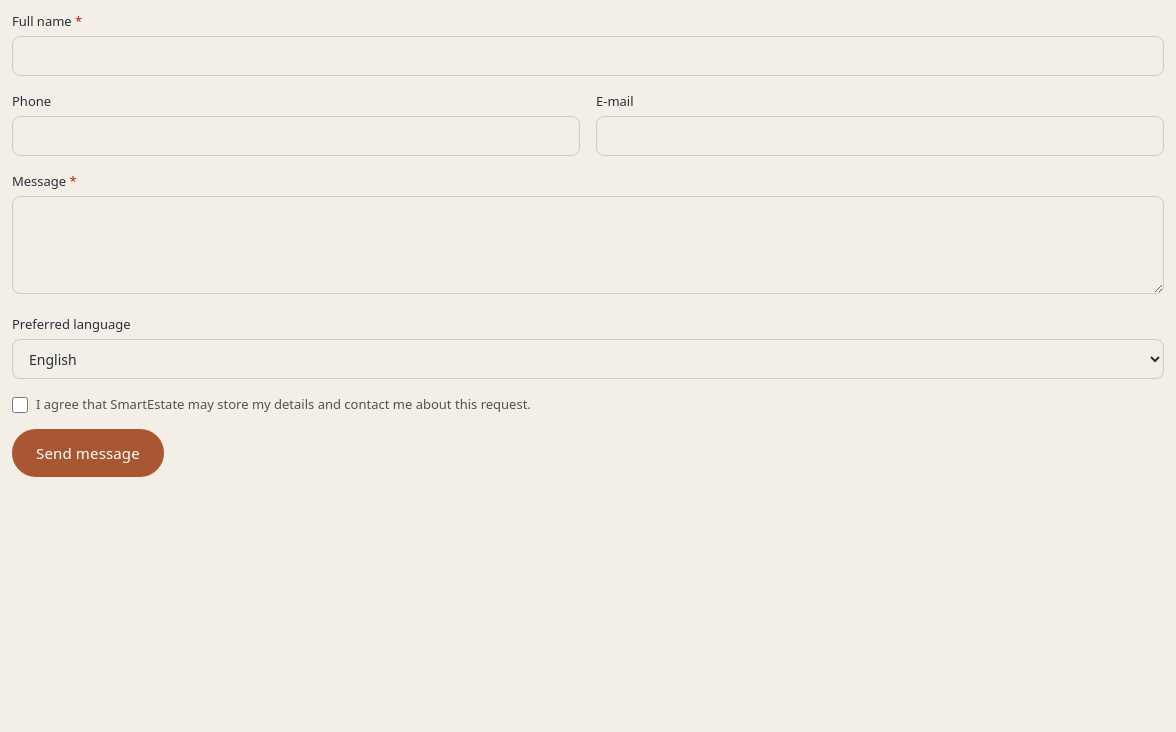
Scenario: inquiry form › shows the server's field and rate-limit errors
Type "Rana" into the field labelled "Full name *" at [588, 56], box [12,36,1164,76]
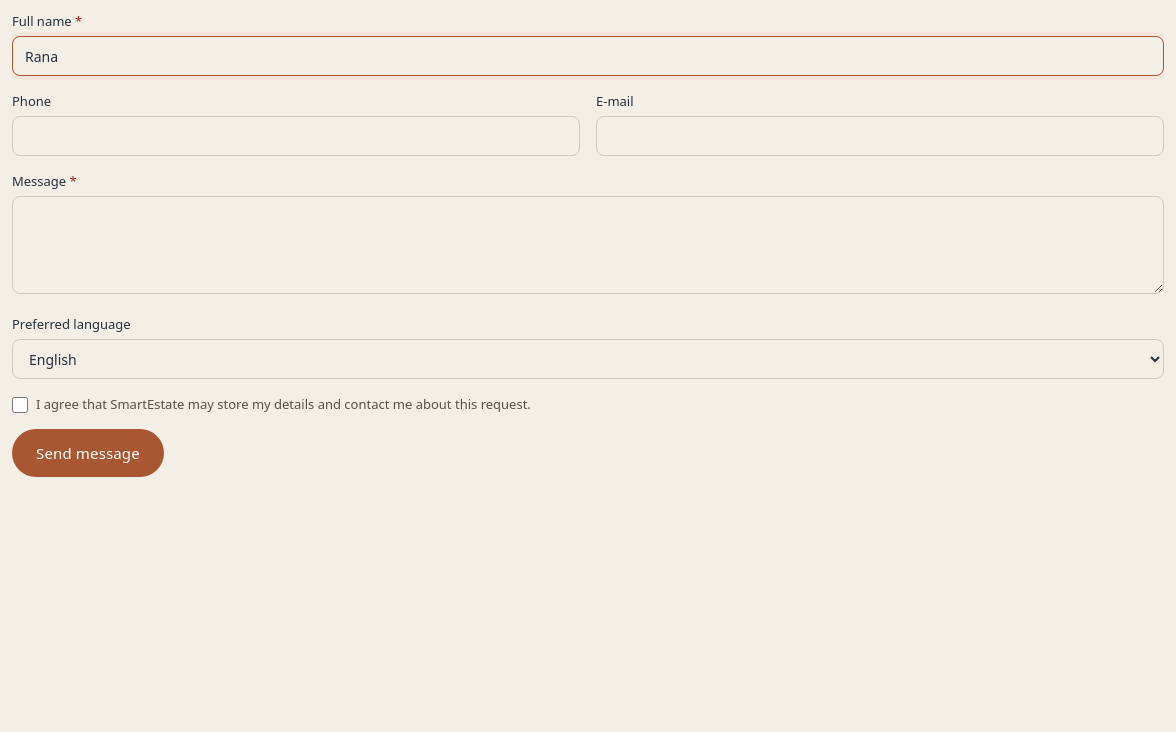
Type "+966 50 123 4567" into the field labelled "Phone" at [296, 136], box [12,116,580,156]
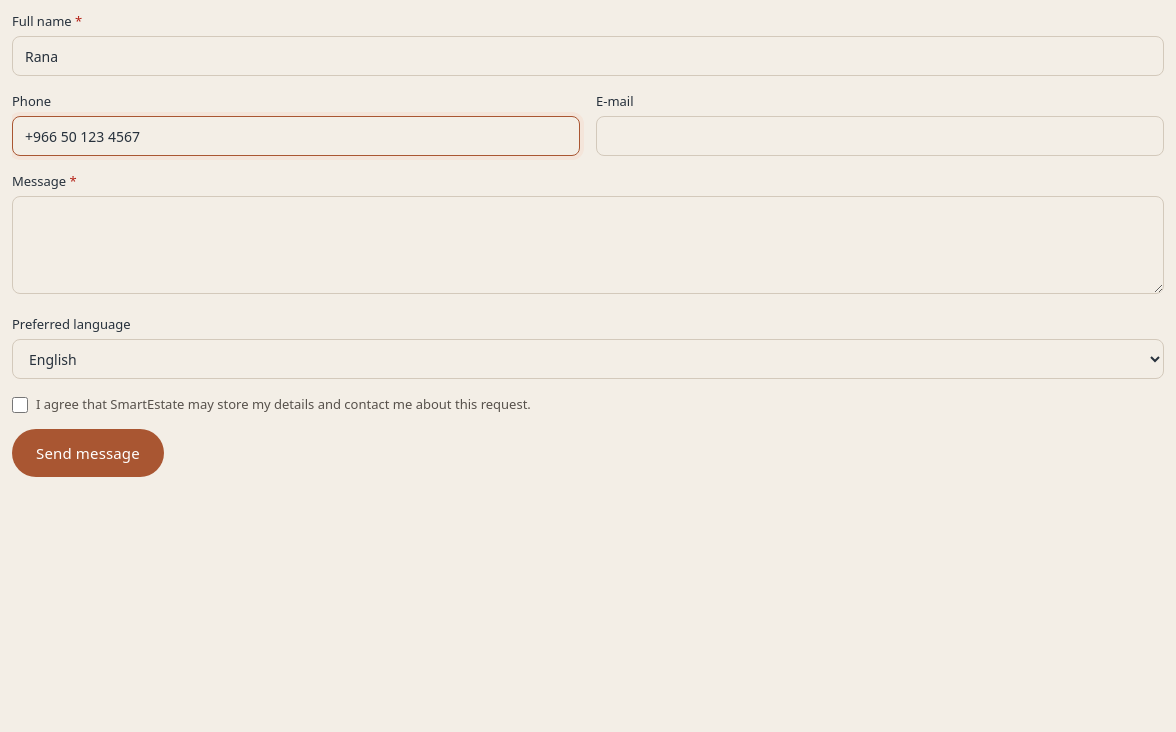
Type "Hi" into the text box labelled "Message *" at [588, 245], box [12,196,1164,294]
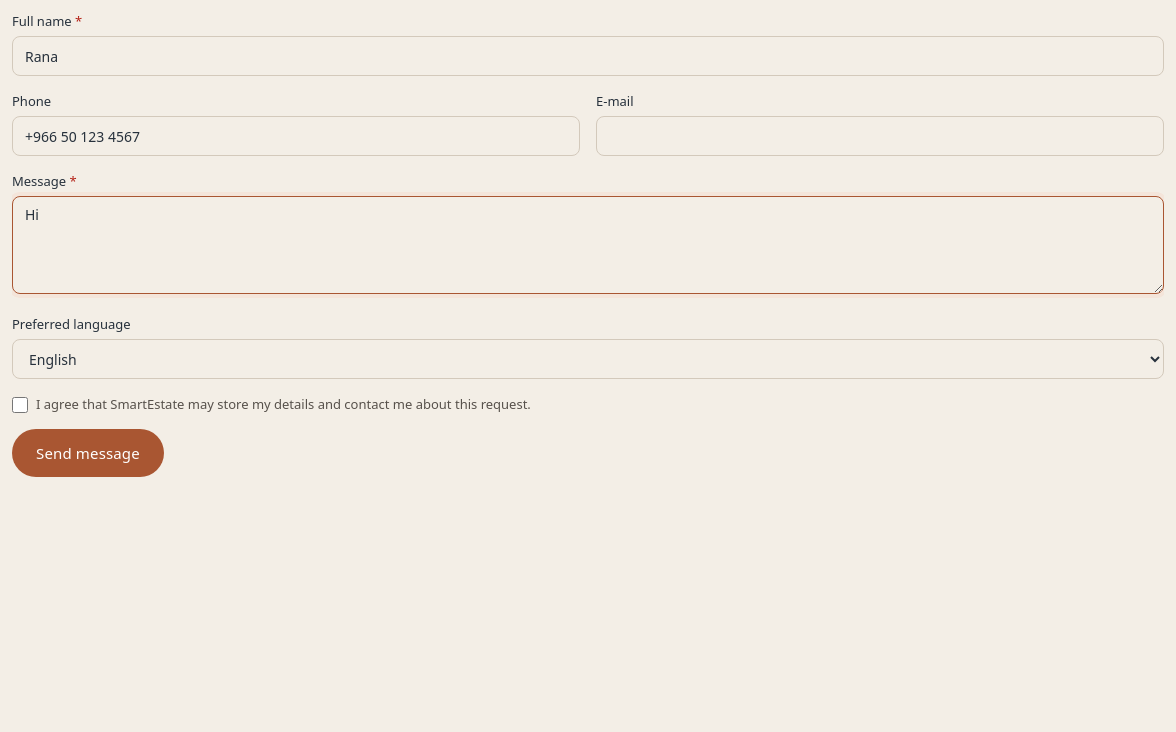
Click the checkbox at [20, 405], box [12,397,28,413]
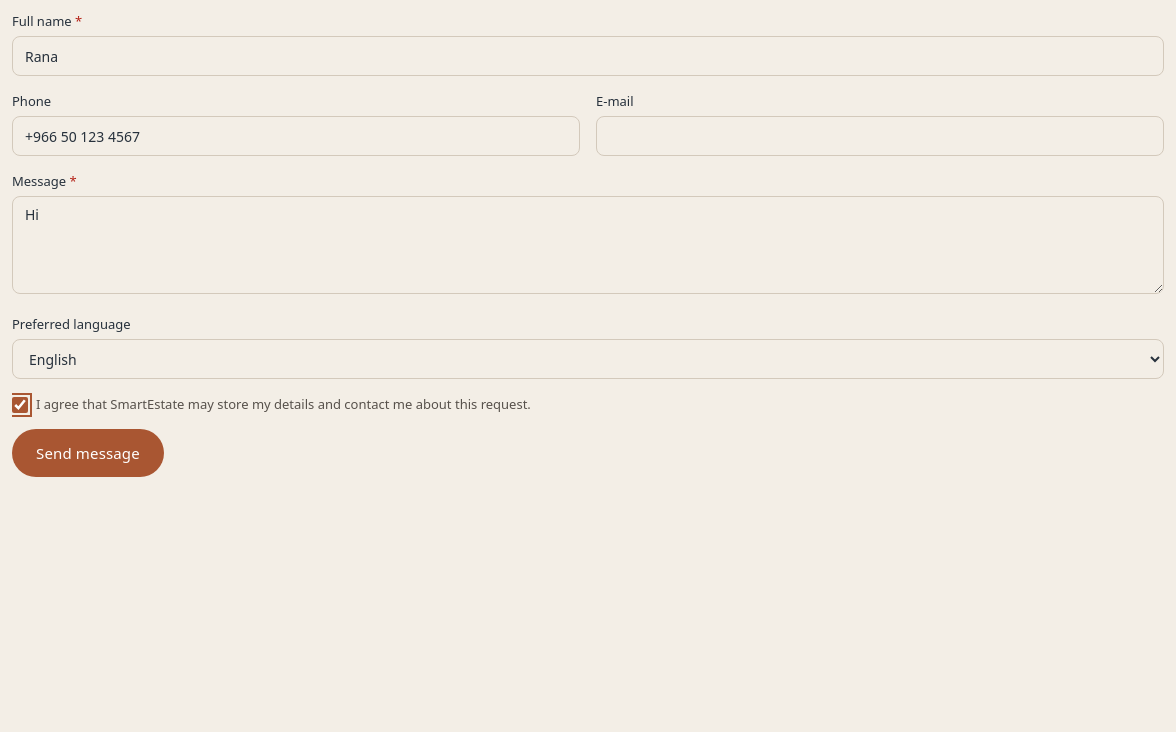
Click the button "Send message" at [88, 453], box [12,429,164,477]
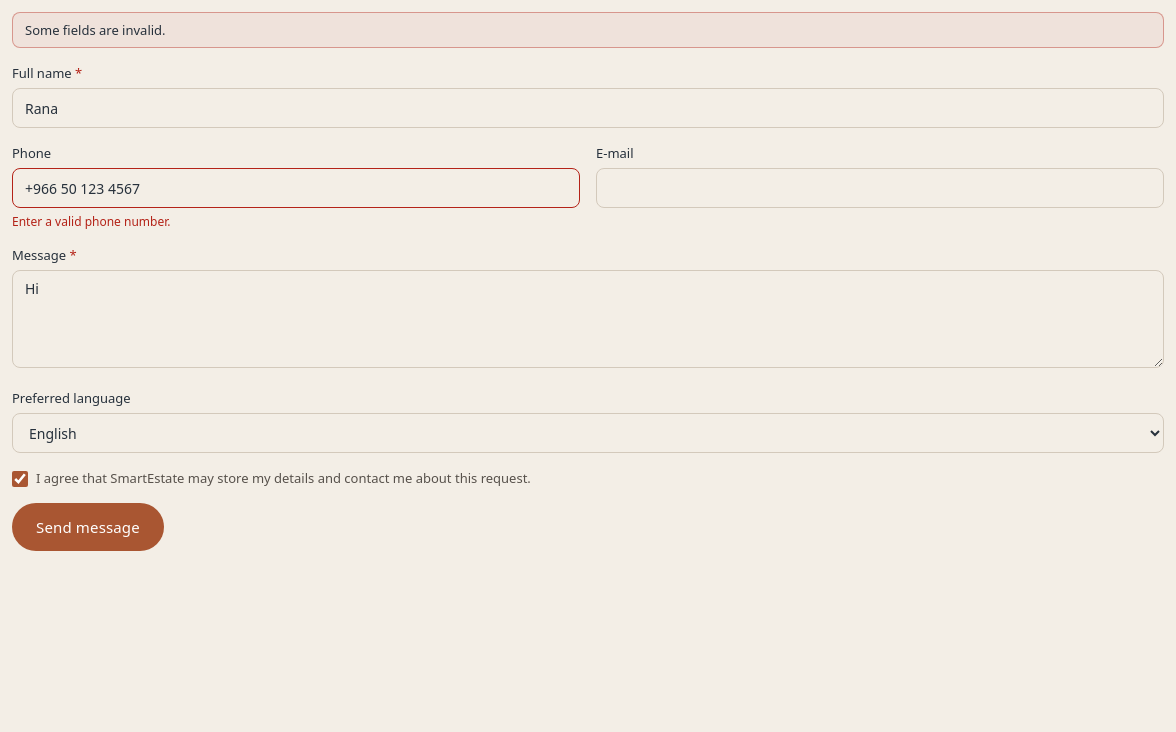
Expected: the text "Enter a valid phone number." is shown, [12,213,170,230]
Click the button "Send message" at [88, 527], box [12,503,164,551]
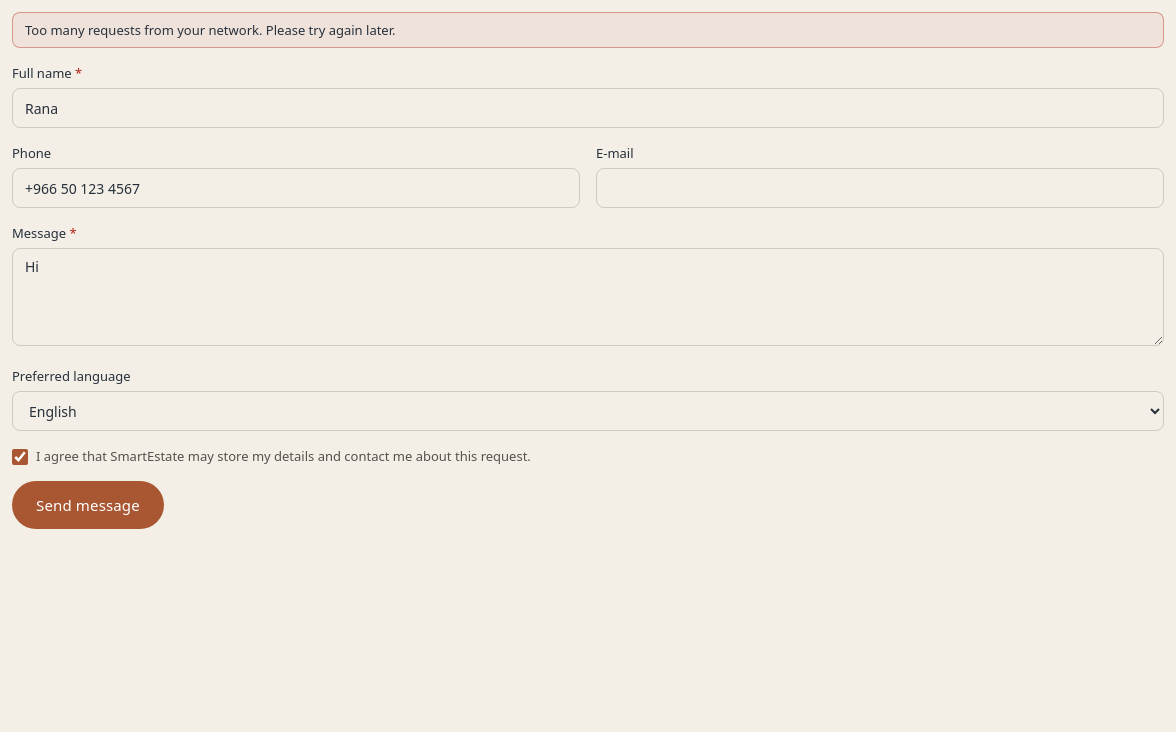
Expected: the message shows "Too many requests", [25,21,396,39]
